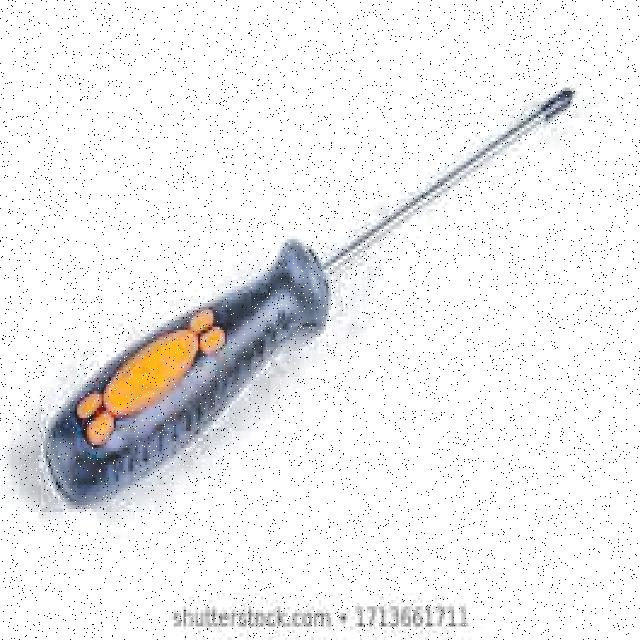screwdriver: (47, 87, 574, 506)
